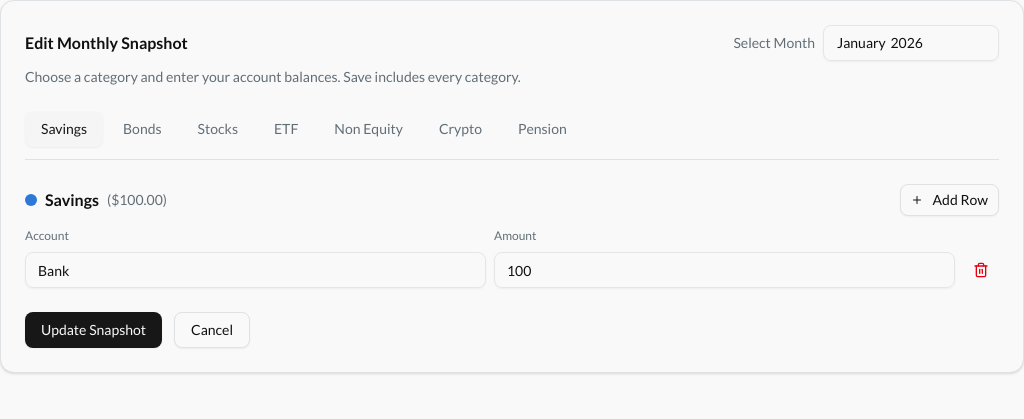
Scenario: does not save a native badInput amount as an empty zero value
Clear the number field. click: (724, 270)
box: [494,252,955,288]
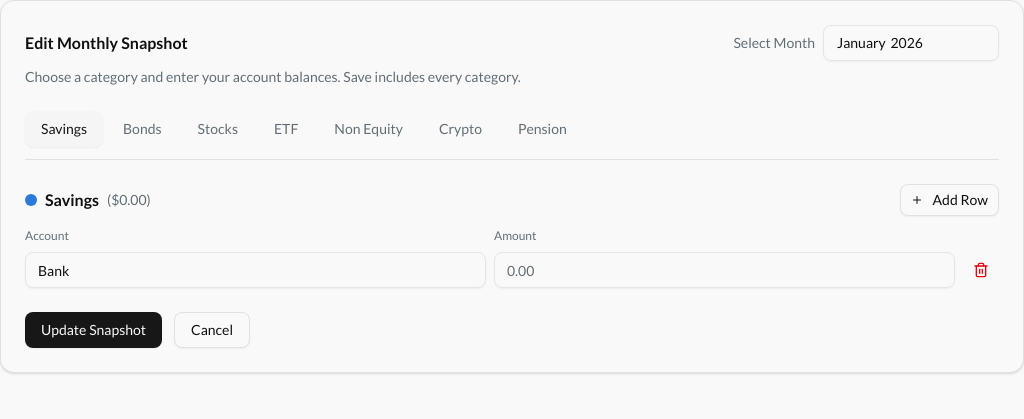
Click the button "Update Snapshot". click: click(94, 330)
box: [25,312,162,348]
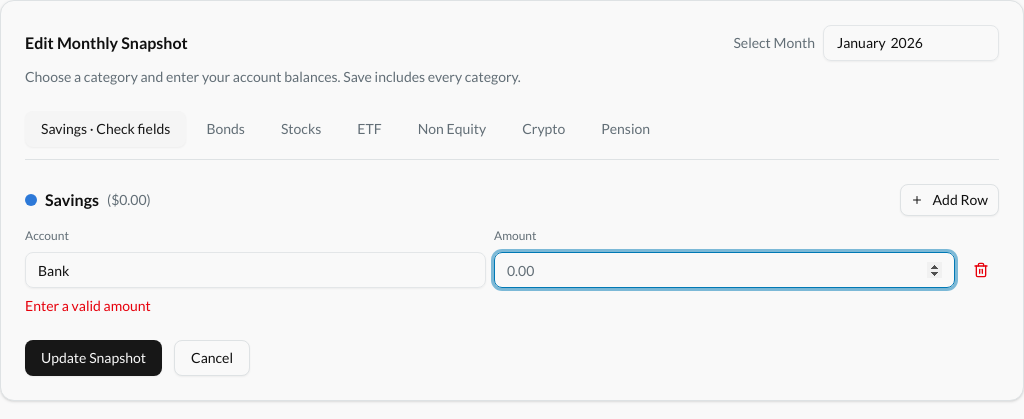
Check: the text "Enter a valid amount" is shown, box [25,297,151,314]
